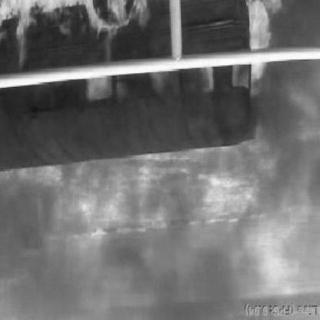Fire: (2, 5, 282, 107)
Smoke: (10, 113, 246, 149)
